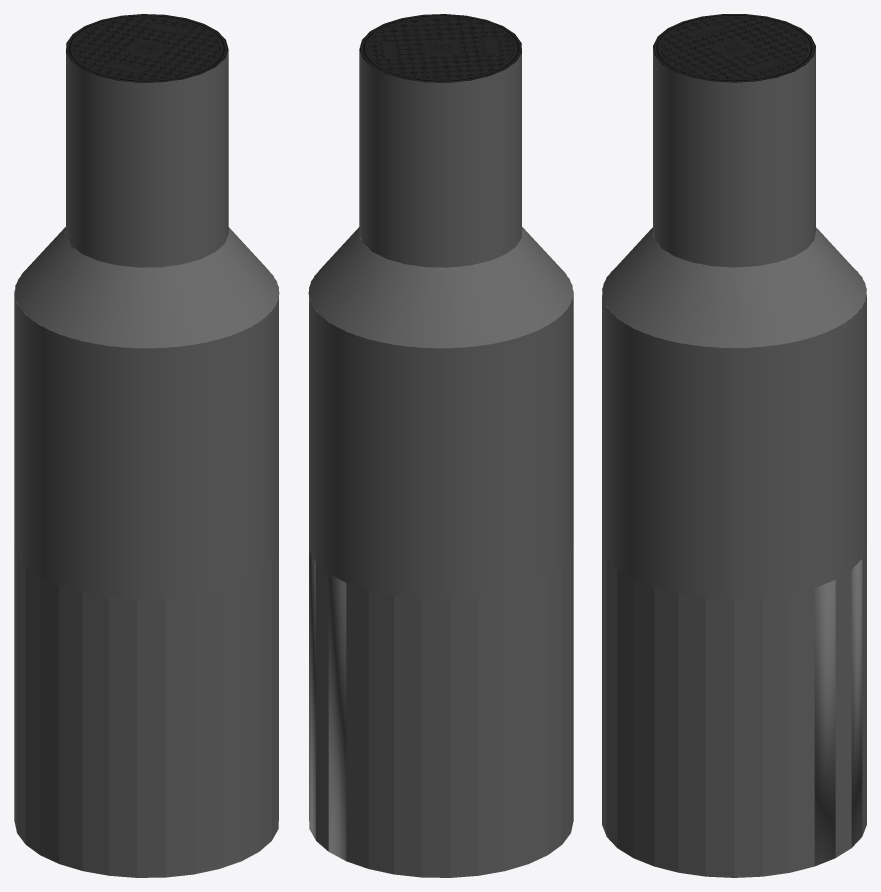
The picture shows the model from 3 angles, left to right: view 1: azimuth 30°, elevation 25°; view 2: azimuth 150°, elevation 25°; view 3: azimuth 270°, elevation 25°; orthographic projection.
Parts seen in each view (by area): view 1: node_id8.001; view 2: node_id8.001; view 3: node_id8.001.
Boxes of the visible parts, x1,y1,x2,y2 form: node_id8.001: [14, 14, 279, 877]; node_id8.001: [308, 14, 573, 877]; node_id8.001: [602, 14, 866, 877].
Size of the model in its own units: 0.2505 by 0.8067 by 0.2502.
Materials: 2 (1 with a texture image).
